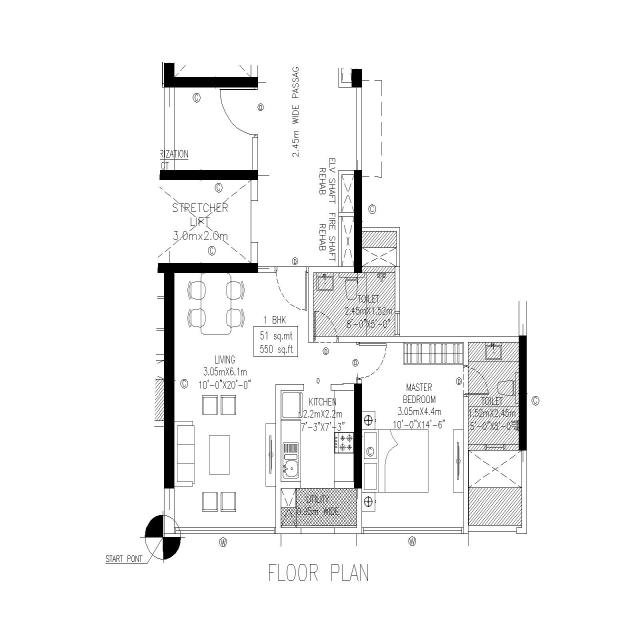Column: (162, 268, 177, 491), (161, 60, 260, 90), (516, 332, 530, 452), (158, 167, 259, 183), (156, 261, 260, 275), (353, 380, 365, 490), (353, 168, 365, 274)
Door: (462, 362, 472, 398), (253, 86, 259, 142), (354, 340, 362, 382), (274, 266, 310, 274), (312, 334, 340, 344)
Ventilator: (392, 309, 402, 337), (485, 442, 506, 452)
Window: (360, 524, 466, 536), (174, 525, 278, 537)
